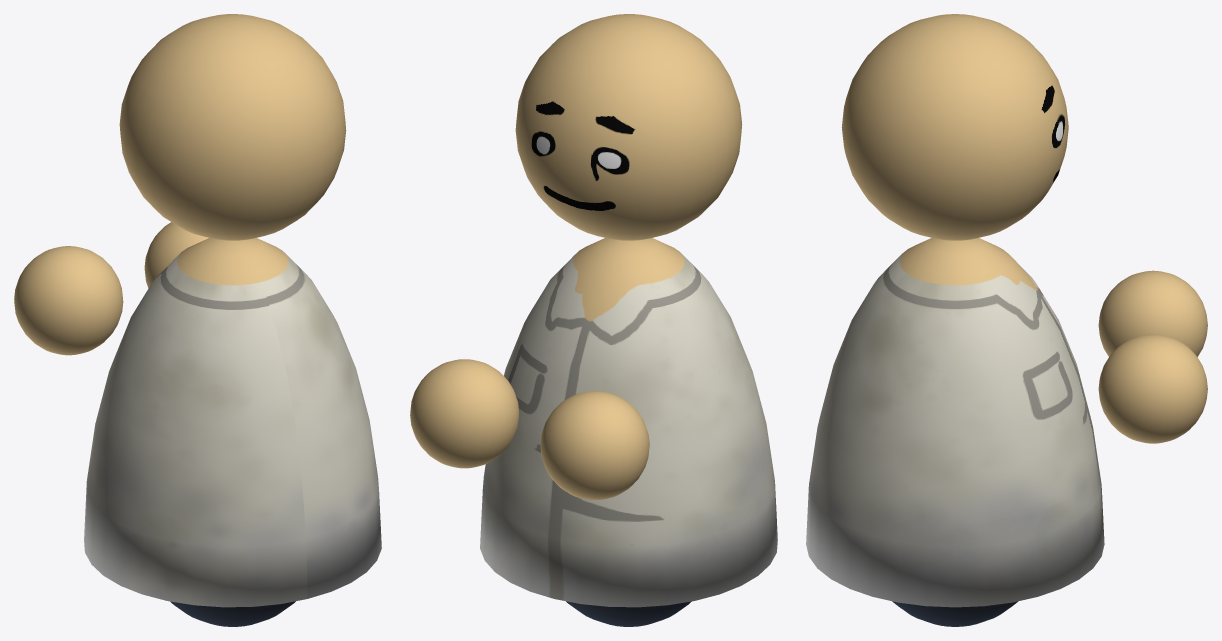
Rendered from Chara4.fbx.
3 renders of one model, left to right at view 1: azimuth 30°, elevation 25°; view 2: azimuth 150°, elevation 25°; view 3: azimuth 270°, elevation 25°, orthographic.
Parts seen in each view (by area): view 1: Sphere.002, Sphere.001, Sphere; view 2: Sphere.002, Sphere.001, Sphere; view 3: Sphere.002, Sphere.001, Sphere.
Boxes of the visible parts, bbox=[...] form: Sphere.002: bbox=[84, 238, 381, 626]; Sphere.001: bbox=[119, 14, 346, 240]; Sphere: bbox=[14, 222, 208, 355]; Sphere.002: bbox=[480, 238, 777, 626]; Sphere.001: bbox=[515, 14, 742, 240]; Sphere: bbox=[410, 359, 649, 500]; Sphere.002: bbox=[806, 238, 1104, 626]; Sphere.001: bbox=[841, 14, 1068, 240]; Sphere: bbox=[1098, 270, 1207, 443].
Bounding box in the file's own units: 178 × 390 × 239.
